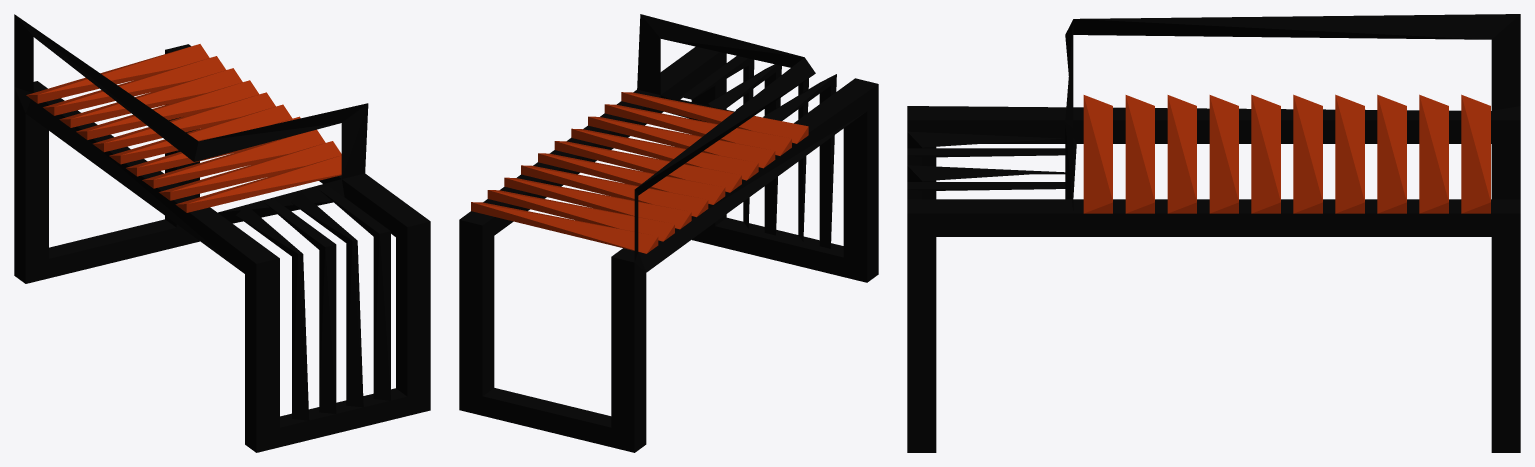
Rendered from bw-bench.lod1.glb.
The picture shows the model from 3 angles, left to right: view 1: azimuth 30°, elevation 25°; view 2: azimuth 150°, elevation 25°; view 3: azimuth 270°, elevation 25°; orthographic projection. The views are drawn at different scales.
Parts seen in each view (by area): view 1: Object_4; view 2: Object_4; view 3: Object_4.
Part boxes in pixels (x1=…): Object_4: x1=14, y1=14, x2=430, y2=452; Object_4: x1=459, y1=14, x2=878, y2=452; Object_4: x1=907, y1=14, x2=1520, y2=452.
Size of the model in its own units: 0.8309 by 1.19 by 2.
